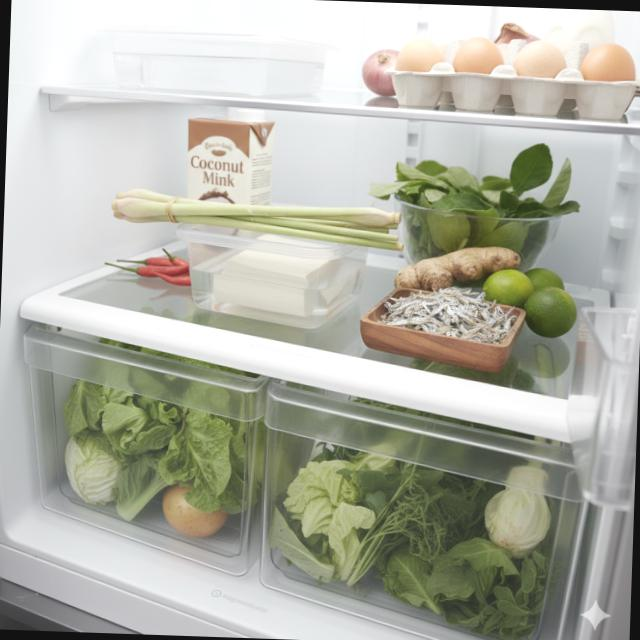anchovies: (378, 290, 516, 346)
cabbage: (61, 440, 117, 509)
chili: (104, 250, 190, 286)
egg: (386, 31, 640, 116)
ginger: (394, 243, 522, 295)
leafy_greens: (354, 459, 545, 640), (372, 138, 582, 250), (110, 414, 244, 524)
lemongrass: (110, 184, 408, 250)
lime: (484, 266, 577, 337)
onion: (360, 47, 398, 97)
potato: (161, 482, 228, 538)
tofu: (208, 235, 356, 316)
